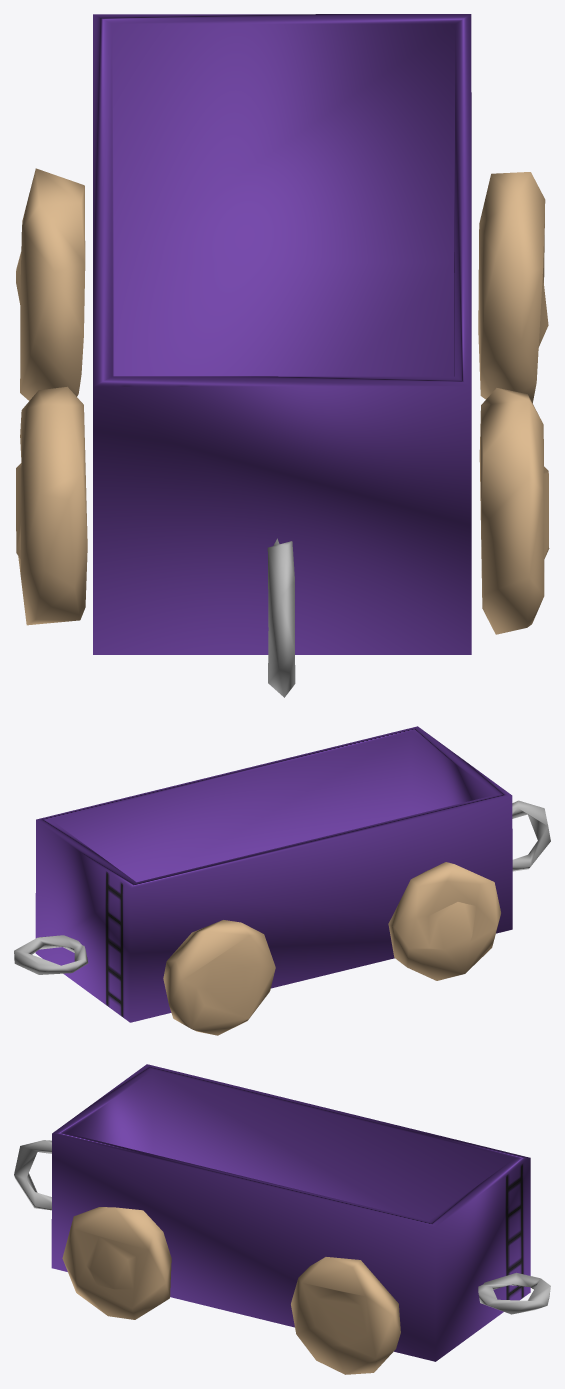
The model's file is viola_LOD1.fbx.
The picture shows the model from 3 angles, top to bottom: view 1: azimuth 30°, elevation 25°; view 2: azimuth 150°, elevation 25°; view 3: azimuth 270°, elevation 25°; orthographic projection. The views are drawn at different scales.
Visible parts, largest first — view 1: vagone6; view 2: vagone6; view 3: vagone6.
Boxes of the visible parts, <box> form: vagone6: <box>16,14,549,697</box>; vagone6: <box>14,726,550,1035</box>; vagone6: <box>14,1064,550,1374</box>.
Bounding box in the file's own units: 426 × 180 × 561.
3 materials, 1 textured.
